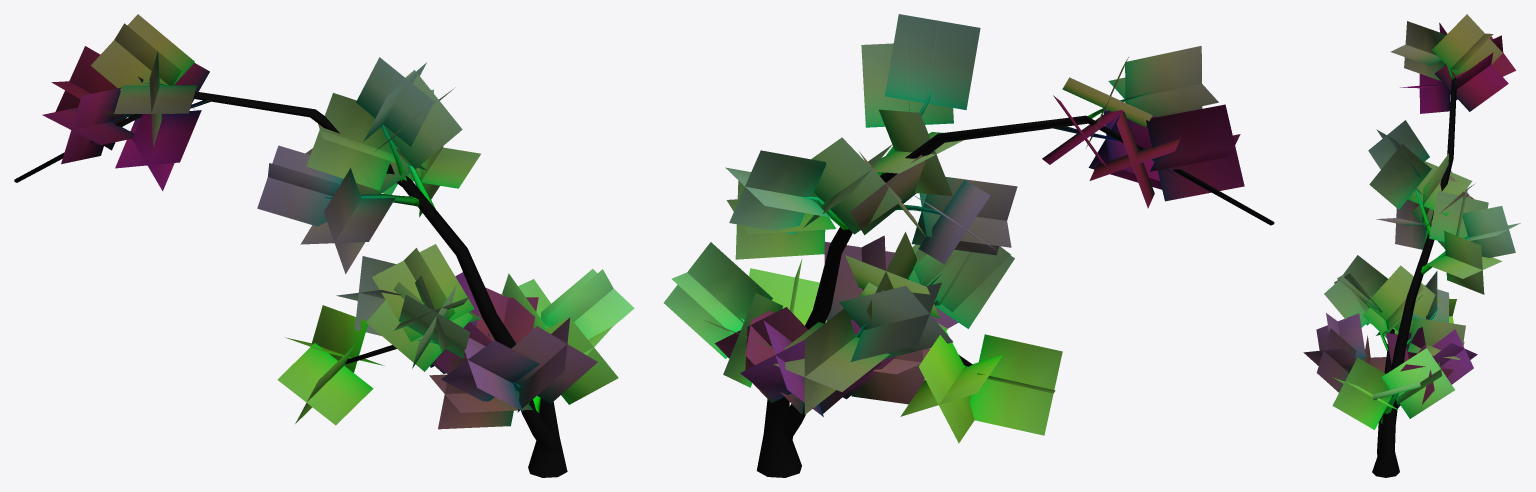
The model's file is URP_P5_Tree_11_LOD_2.fbx.
The picture shows the model from 3 angles, left to right: view 1: azimuth 30°, elevation 25°; view 2: azimuth 150°, elevation 25°; view 3: azimuth 270°, elevation 25°; orthographic projection. The views are drawn at different scales.
Visible parts, largest first — view 1: Tree_11_LOD_2; view 2: Tree_11_LOD_2; view 3: Tree_11_LOD_2.
Boxes of the visible parts, x1,y1,x2,y2 form: Tree_11_LOD_2: (14,14,634,477); Tree_11_LOD_2: (663,14,1274,477); Tree_11_LOD_2: (1303,14,1520,477).
Bounding box in the file's own units: 722 × 595 × 350.
